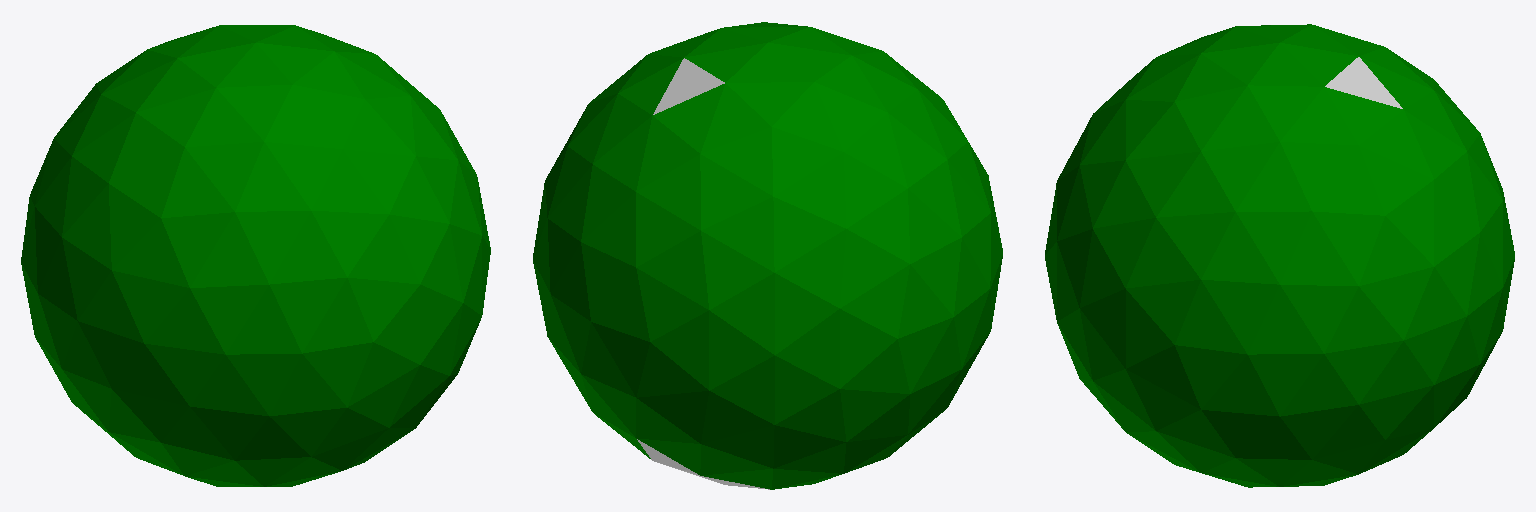
The model's file is Polyhedron.obj.
The picture shows the model from 3 angles: view 1: azimuth 30°, elevation 25°; view 2: azimuth 150°, elevation 25°; view 3: azimuth 270°, elevation 25°; orthographic projection.
Parts seen in each view (by area): view 1: Shape_IndexedFaceSet; view 2: Shape_IndexedFaceSet; view 3: Shape_IndexedFaceSet.
Boxes of the visible parts, <box> form: Shape_IndexedFaceSet: <box>21,25,490,486</box>; Shape_IndexedFaceSet: <box>533,22,1002,489</box>; Shape_IndexedFaceSet: <box>1045,24,1514,487</box>.
Size of the model in its own units: 1.98 by 2 by 2.